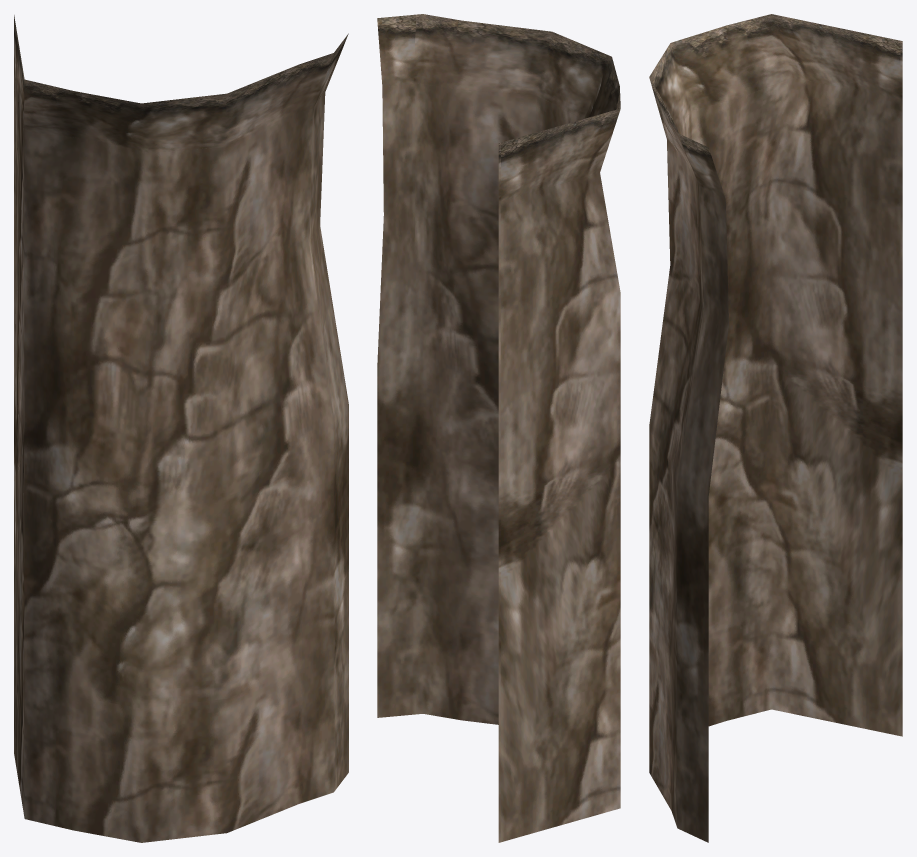
Rendered from OVERHILL_A_01_LINE126.fbx.
The picture shows the model from 3 angles, left to right: view 1: azimuth 30°, elevation 25°; view 2: azimuth 150°, elevation 25°; view 3: azimuth 270°, elevation 25°; orthographic projection. The views are drawn at different scales.
Visible parts, largest first — view 1: OVERHILL_A_01_LINE126; view 2: OVERHILL_A_01_LINE126; view 3: OVERHILL_A_01_LINE126.
Part boxes in pixels (x1=…): OVERHILL_A_01_LINE126: x1=14, y1=15, x2=348, y2=842; OVERHILL_A_01_LINE126: x1=377, y1=14, x2=620, y2=842; OVERHILL_A_01_LINE126: x1=649, y1=14, x2=902, y2=842.
Size of the model in its own units: 28918 by 70252 by 23218.
2 materials, 2 textured.
